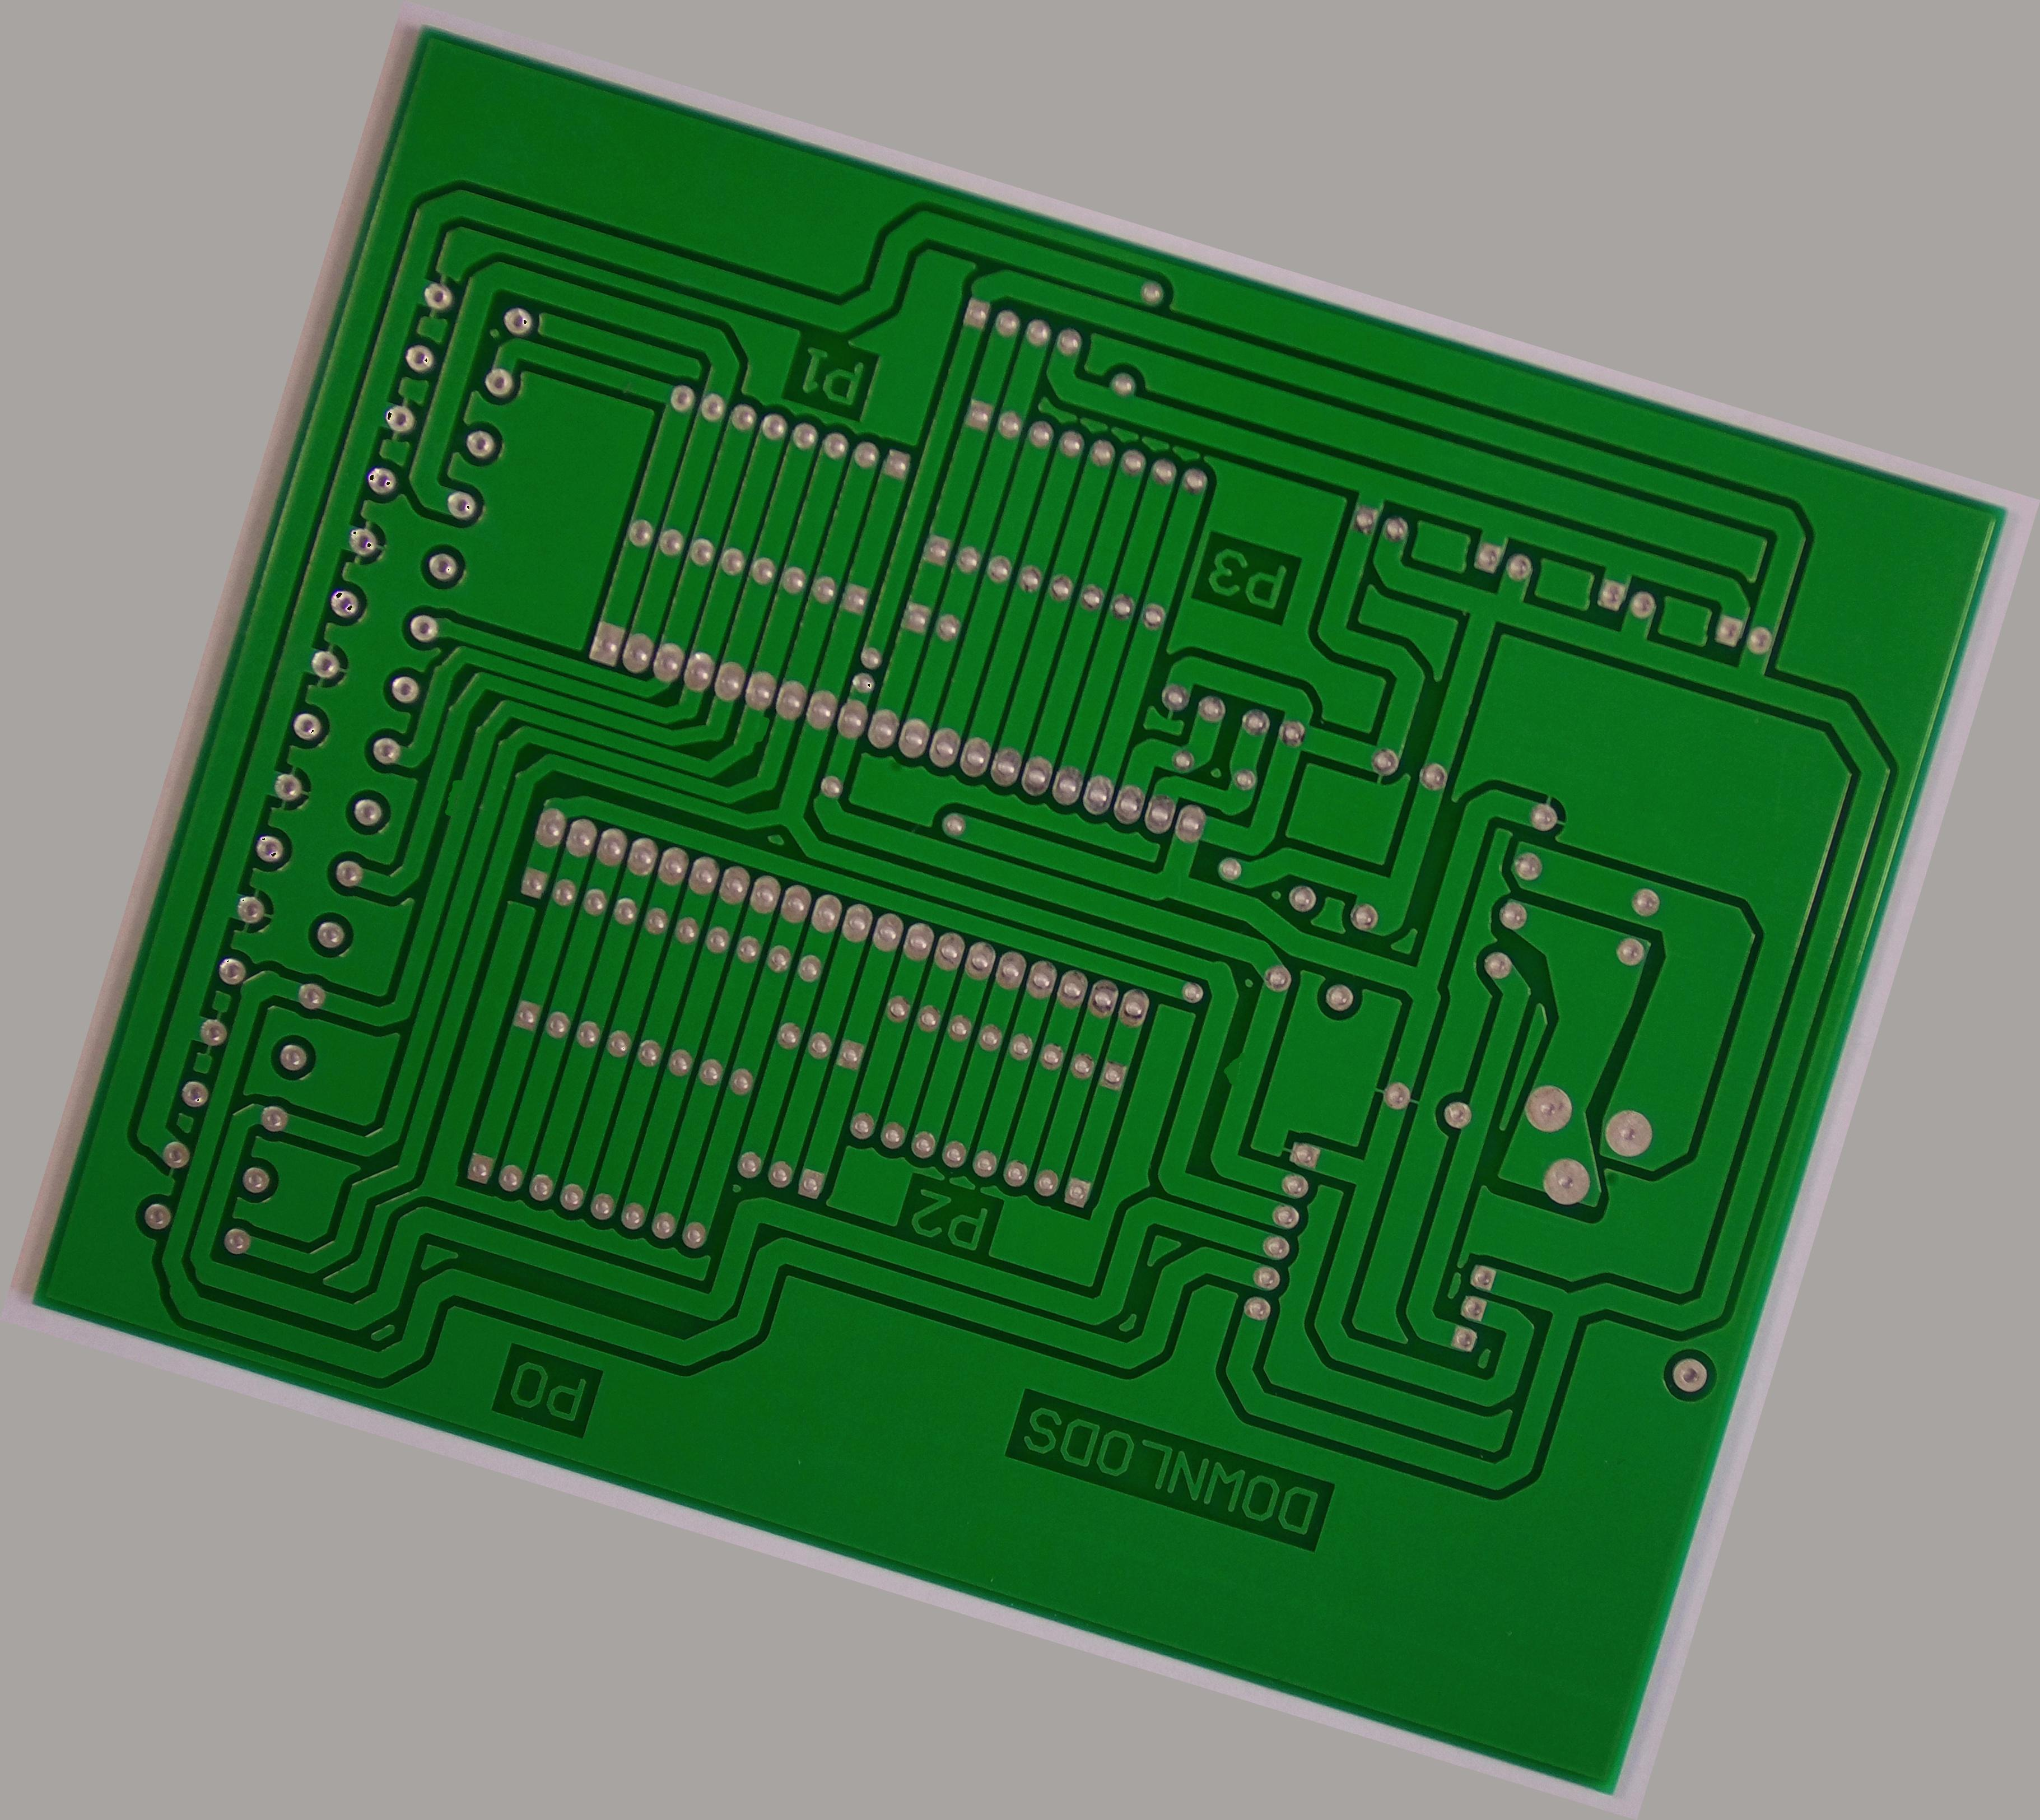spur: (1209, 1042, 1262, 1103), (430, 768, 476, 831), (738, 706, 777, 754)
